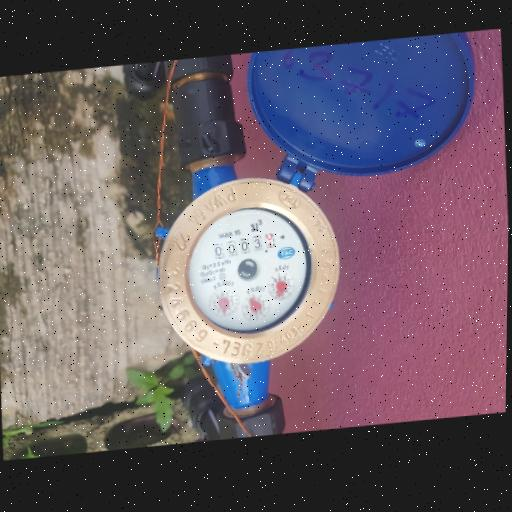0: (213, 241, 226, 260), (264, 231, 277, 249), (226, 238, 238, 257), (238, 236, 250, 255)
3: (251, 234, 263, 252)
border_water_meter_number: (209, 228, 279, 263)
